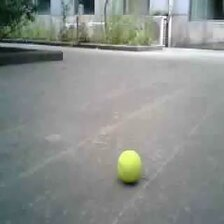tennis: (117, 149, 142, 183)
